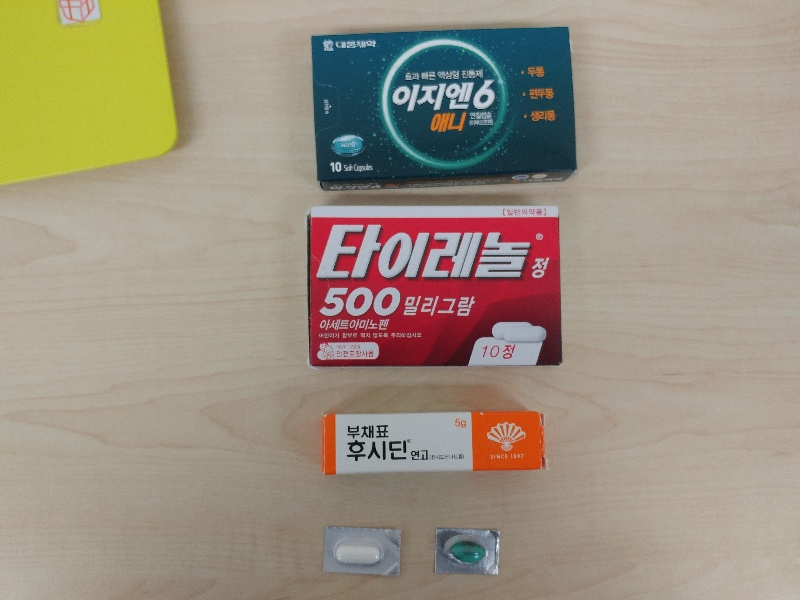ezn: (311, 26, 577, 190)
fucidin: (323, 411, 546, 474)
pill_ezn: (433, 528, 500, 573)
pill_tylenol: (320, 526, 401, 577)
tylenol: (306, 207, 563, 366)
